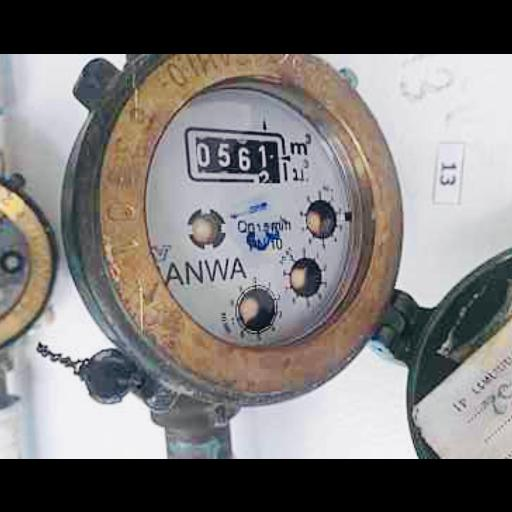0: (195, 135, 216, 173)
1: (256, 137, 280, 183)
5: (214, 136, 236, 173)
6: (234, 137, 259, 174)
border_water_meter_number: (183, 126, 289, 183)
